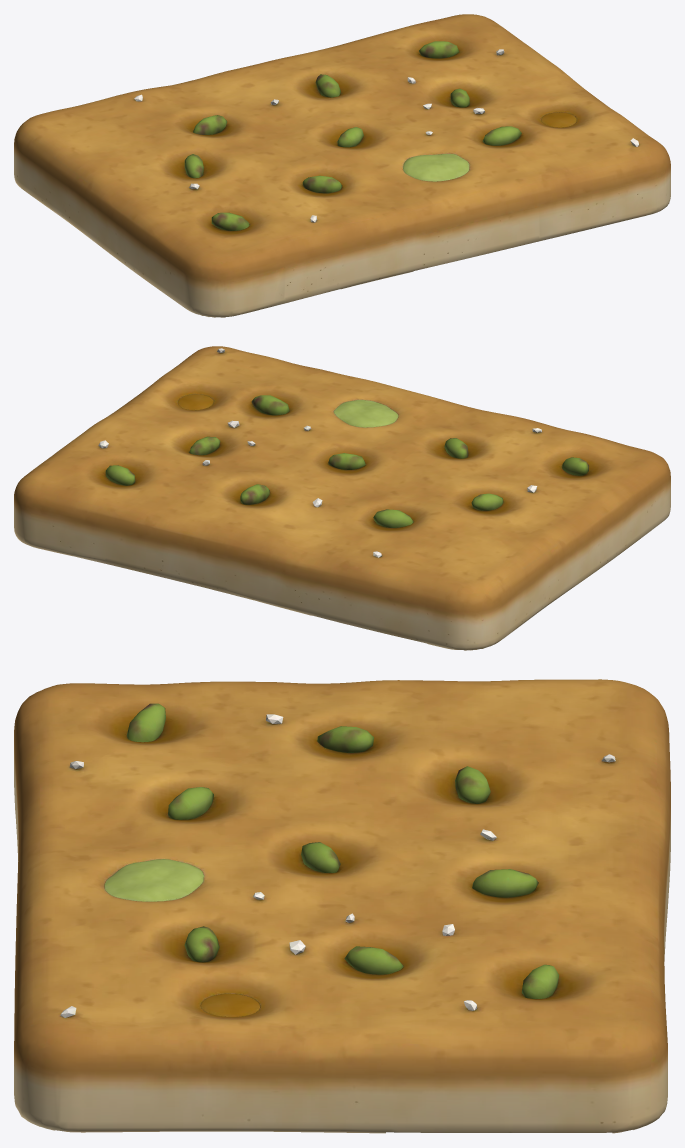
File: focaccia--pistachio-piece.glb
3 views of the same model, one above another, from view 1: azimuth 30°, elevation 25°; view 2: azimuth 150°, elevation 25°; view 3: azimuth 270°, elevation 25° (orthographic). The views are drawn at different scales.
Visible parts, largest first — view 1: focaccia_pistachio-piece; view 2: focaccia_pistachio-piece; view 3: focaccia_pistachio-piece.
Boxes of the visible parts, x1,y1,x2,y2 form: focaccia_pistachio-piece: [14, 14, 670, 317]; focaccia_pistachio-piece: [14, 346, 670, 650]; focaccia_pistachio-piece: [14, 679, 670, 1133].
Bounding box in the file's own units: 1.01 × 0.1368 × 0.7441.
1 material, 1 textured.
